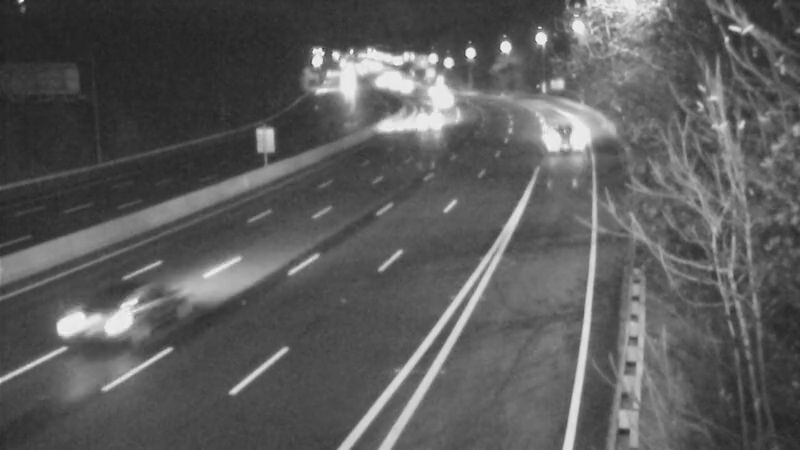vehicle: (44, 268, 154, 378), (411, 66, 461, 116), (420, 77, 470, 127), (405, 98, 455, 148), (540, 106, 590, 156), (362, 102, 412, 152)
